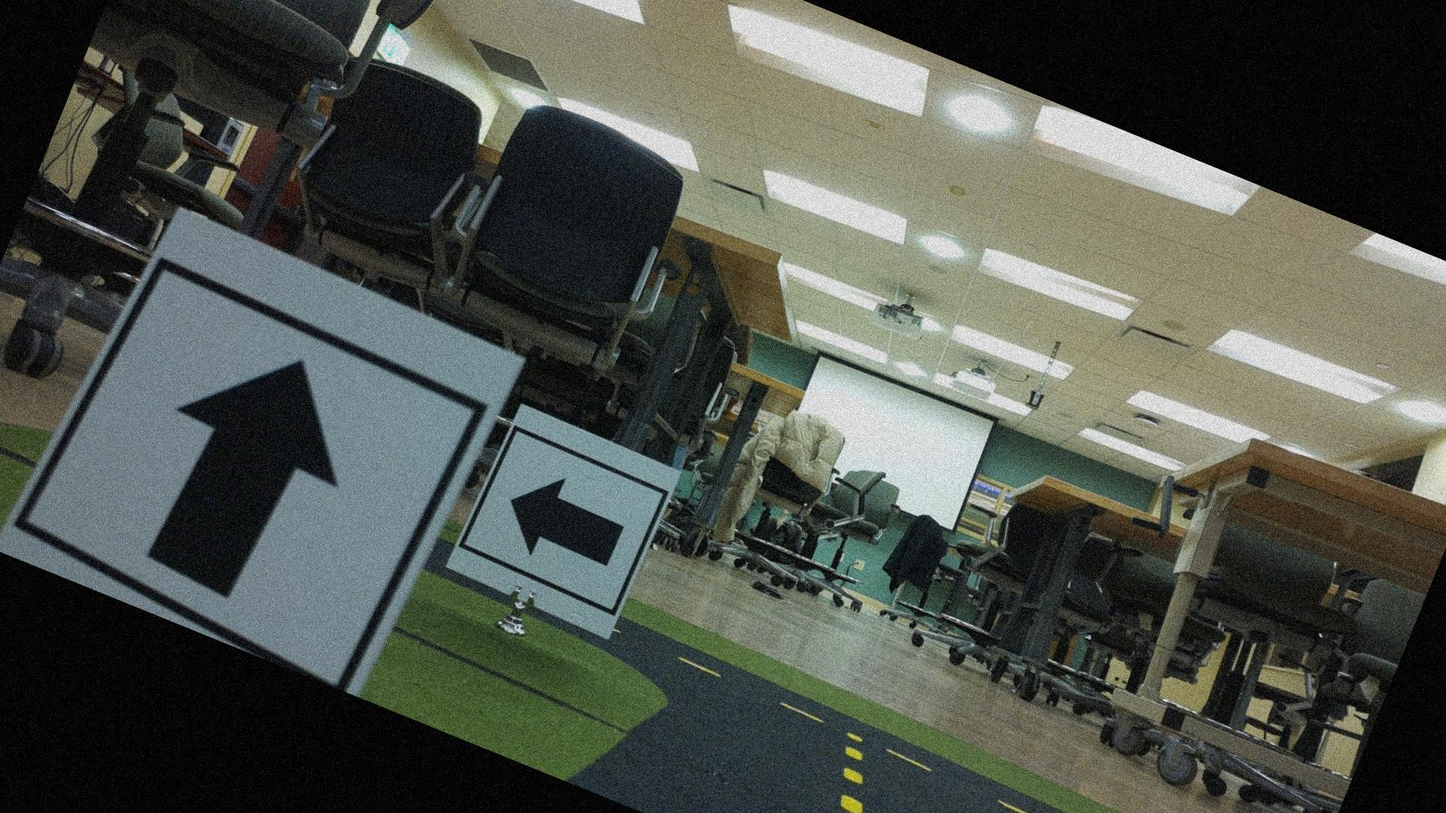gostraight: (39, 224, 496, 687)
turnleft: (453, 410, 682, 641)
yellowline: (795, 743, 923, 812)
